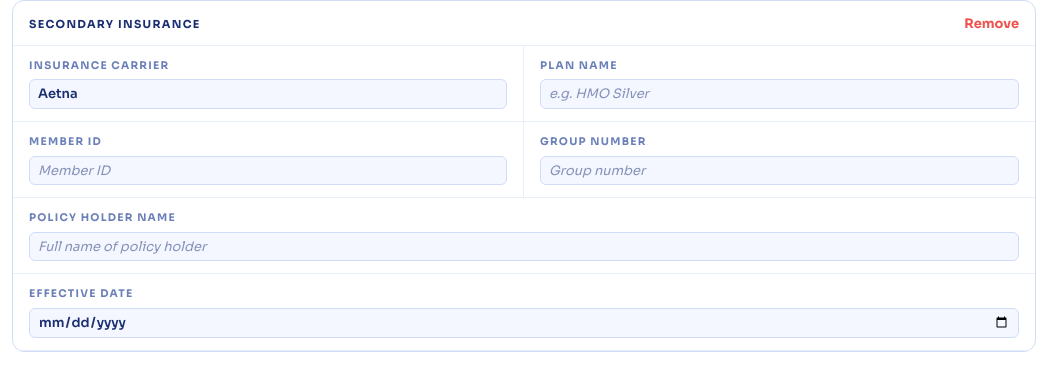
Test: InsuranceSecondaryForm › clicking Remove clears insuranceSecondary in the store and collapses back to the add button
Click the button with aria-label "Remove secondary insurance": click(992, 24) 964,14 -> 1019,34
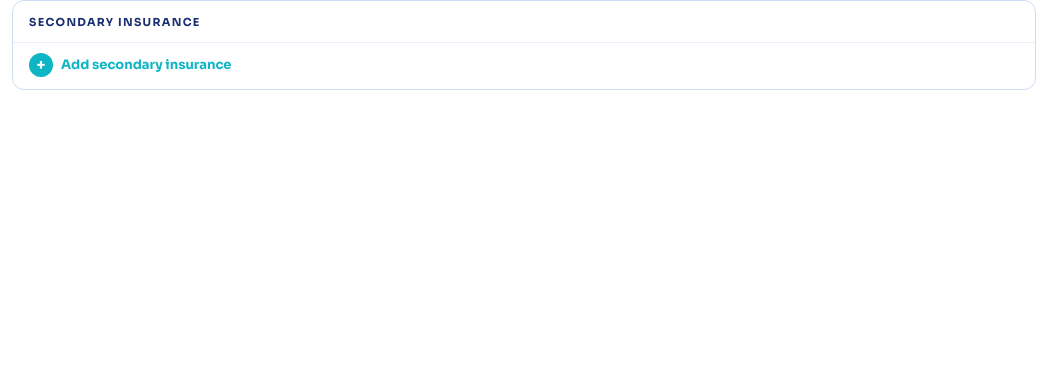
expect the button "+ Add secondary insurance" is shown: met, box 13,42 -> 1035,88
